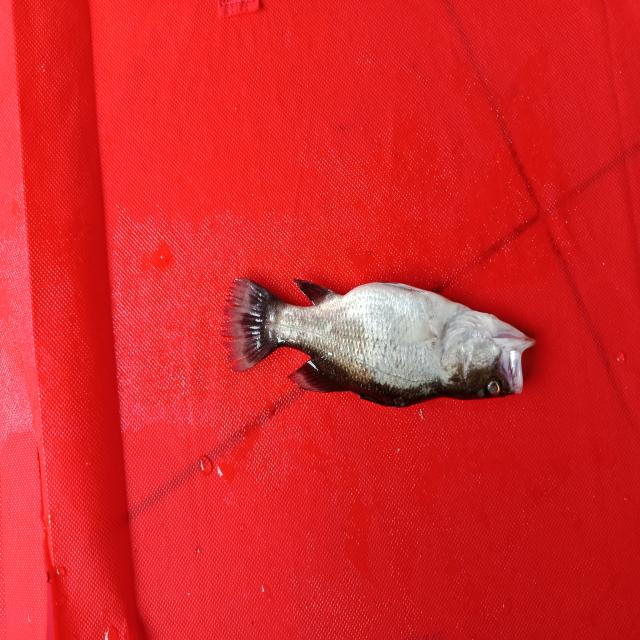ikan: (216, 243, 540, 424)
